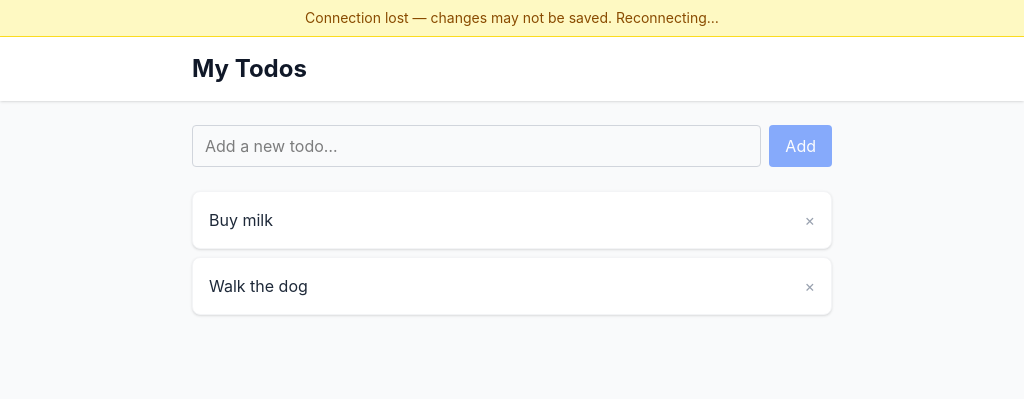
Test: DashboardPage › adds a new todo after submission
Check: the text "Buy milk" is shown, box [209,210,273,230]
Type "Buy eggs" into the field named "new todo title".
click(477, 146); type("Buy eggs")  # box [192,125,761,167]
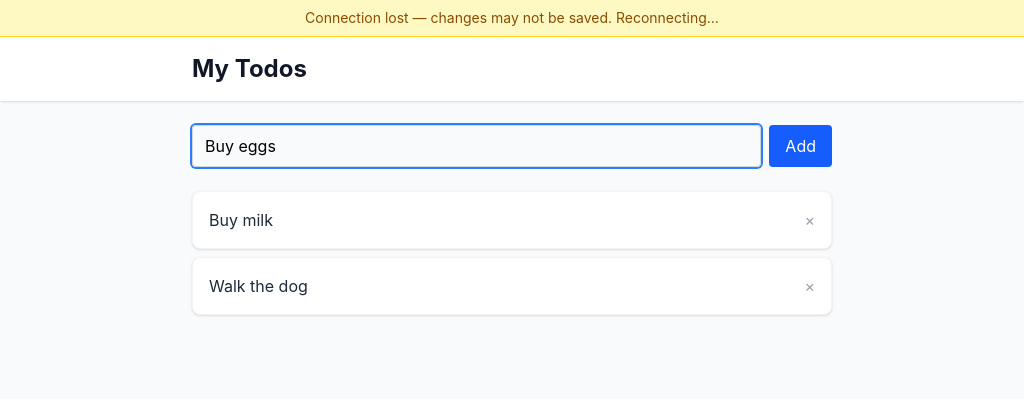
Click the button "Add".
click(801, 146)  # box [769,125,832,167]
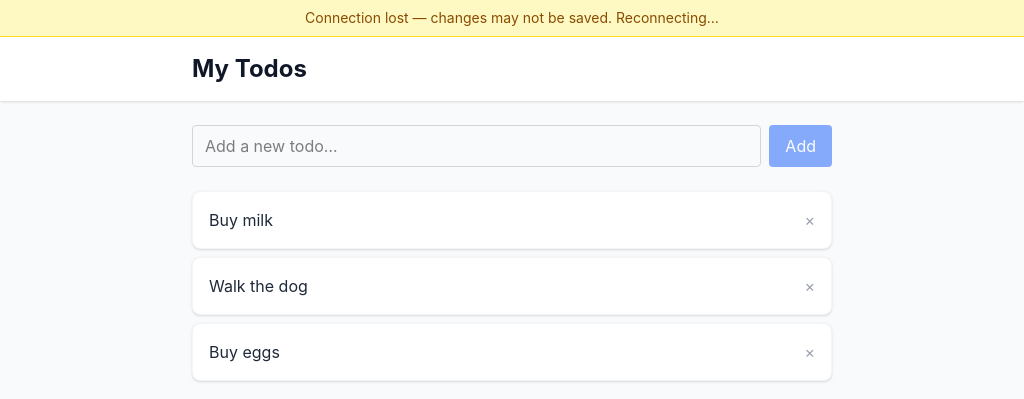
Check: the text "Buy eggs" is shown, box [209,342,280,362]
Check: the field named "new todo title" is empty, box [192,125,761,167]
